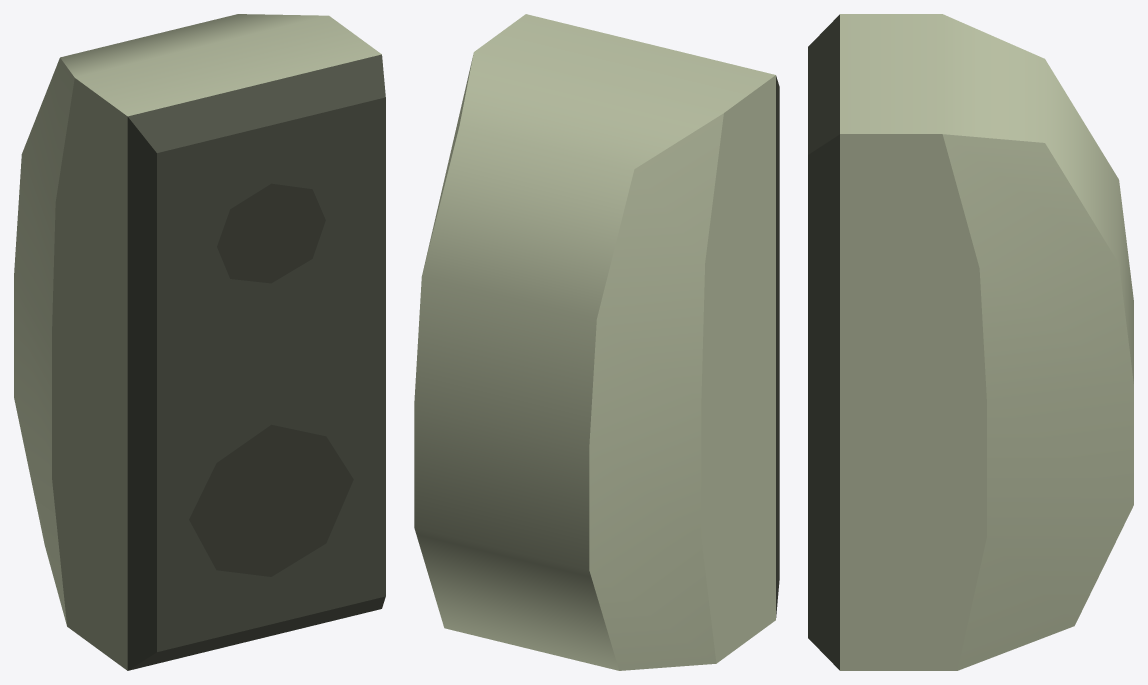
Rendered from Speaker.fbx.
3 views of the same model, side by side, from view 1: azimuth 30°, elevation 25°; view 2: azimuth 150°, elevation 25°; view 3: azimuth 270°, elevation 25° (orthographic). The views are drawn at different scales.
Parts seen in each view (by area): view 1: Speaker; view 2: Speaker; view 3: Speaker.
Boxes of the visible parts, bbox=[...] form: Speaker: bbox=[14, 14, 385, 670]; Speaker: bbox=[414, 14, 779, 670]; Speaker: bbox=[808, 14, 1133, 670].
Size of the model in its own units: 0.1632 by 0.34 by 0.187.
